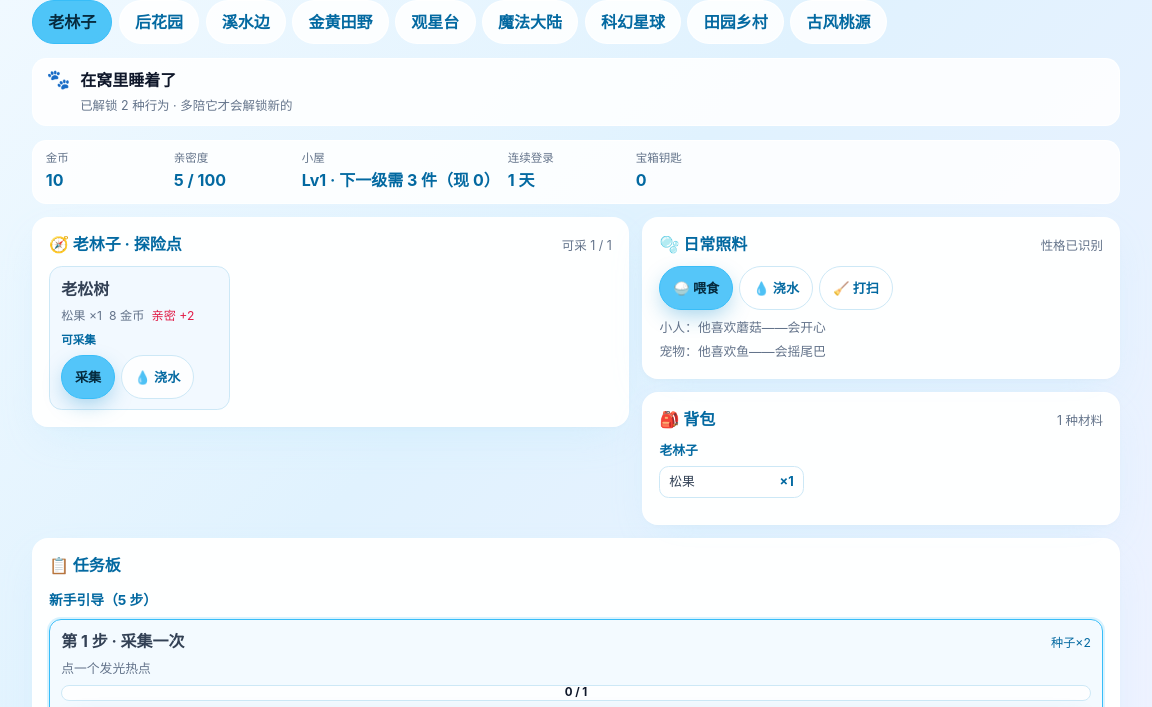
Scenario: GameplayPanel · 诚实错误 › 409 冷却冲突显示后端原文且明确「未生效」
Click the button with test id "w2-spot-forest_pine-explore": (88, 377) [61, 355, 115, 399]
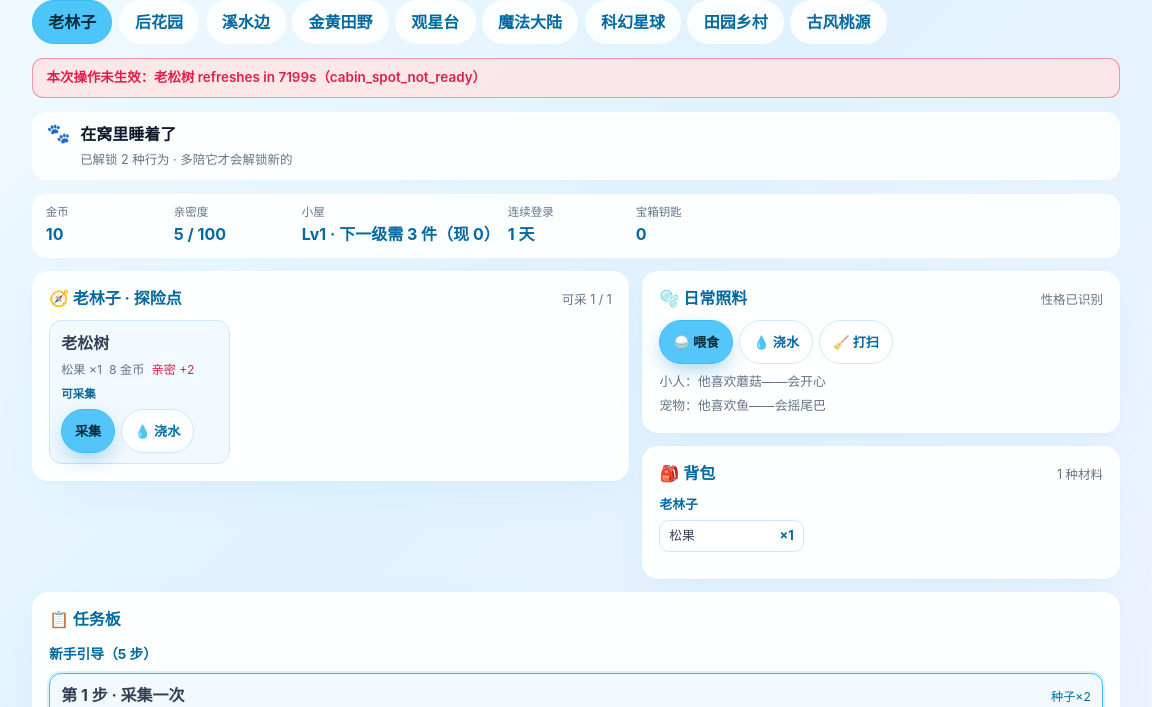
expect the message with test id "w2-action-error" shows "本次操作未生效": met, box [47, 69, 486, 85]
expect the message with test id "w2-action-error" shows "老松树 refreshes in 7199s": met, box [47, 69, 486, 85]
expect the message with test id "w2-action-error" shows "cabin_spot_not_ready": met, box [47, 69, 486, 85]
